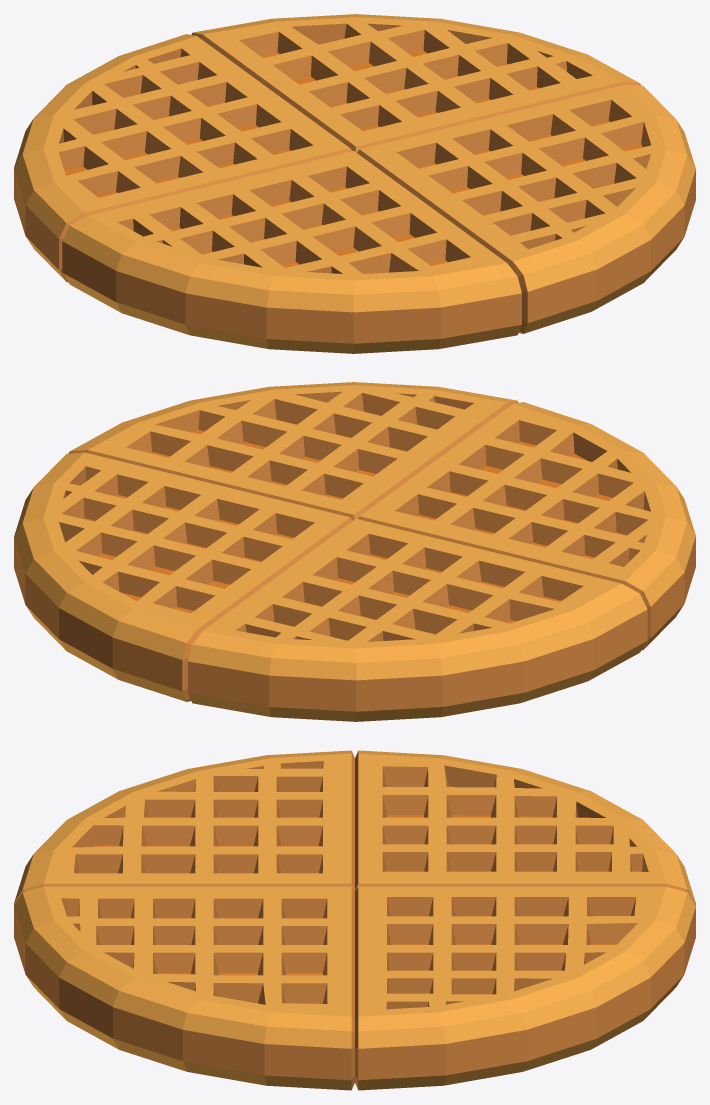
The model's file is Waffle.fbx.
3 views of the same model, one above another, from view 1: azimuth 30°, elevation 25°; view 2: azimuth 150°, elevation 25°; view 3: azimuth 270°, elevation 25° (orthographic).
Parts seen in each view (by area): view 1: Waffle; view 2: Waffle; view 3: Waffle.
Part boxes in pixels (<box>): Waffle: <box>14,14,695,353</box>; Waffle: <box>14,382,695,721</box>; Waffle: <box>14,750,695,1090</box>.
Size of the model in its own units: 13.28 by 1.52 by 13.28.
